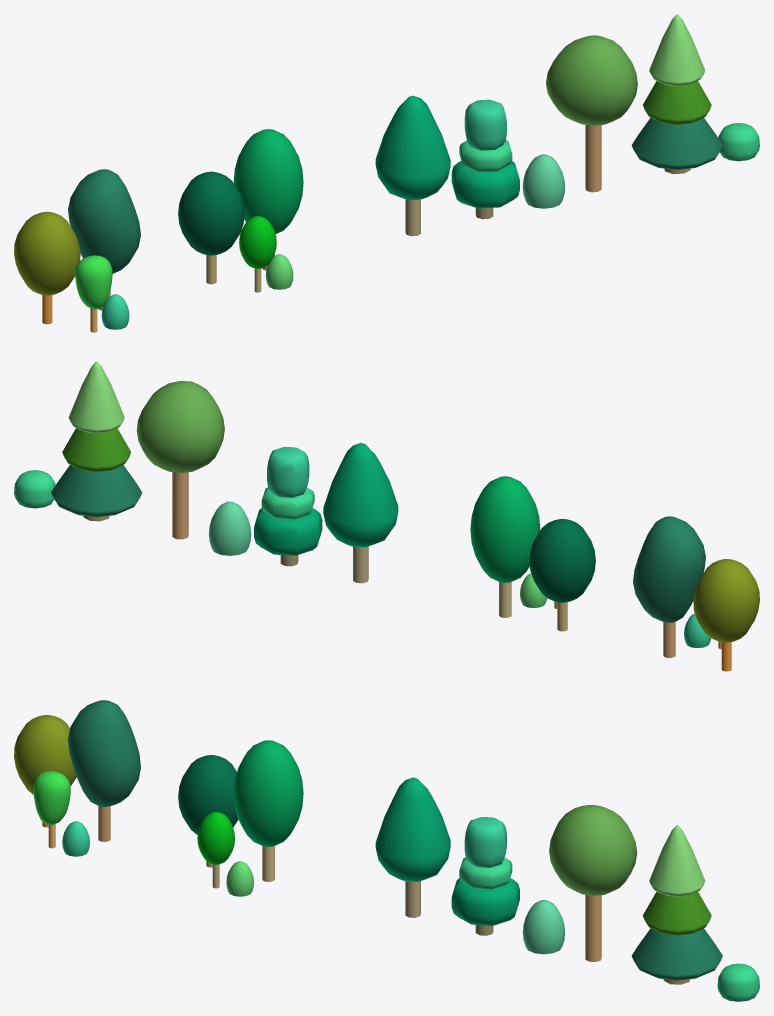
File: tree.fbx
3 views of the same model, one above another, from view 1: azimuth 30°, elevation 25°; view 2: azimuth 150°, elevation 25°; view 3: azimuth 330°, elevation 25° (orthographic).
Visible parts, largest first — view 1: pSphere2, pCube1, pSphere8, pSphere4, pSphere5, pSphere11, pCylinder7, pCylinder9, pCylinder2, pCylinder8, pCylinder4, pSphere1 (+8 smaller); view 2: pSphere2, pSphere8, pSphere4, pCube1, pSphere5, pSphere11, pCylinder7, pCylinder9, pCylinder2, pCylinder8, pCylinder4, pSphere1 (+6 smaller); view 3: pSphere2, pSphere8, pSphere4, pCube1, pCylinder7, pSphere5, pSphere11, pCylinder9, pCylinder2, pCylinder8, pCylinder4, pSphere1 (+8 smaller).
Boxes of the visible parts, x1,y1,x2,y2 form: pSphere2: (546,35,637,125); pCube1: (375,95,450,199); pSphere8: (68,169,140,273); pSphere4: (233,129,303,233); pSphere5: (178,171,244,255); pSphere11: (14,211,80,295); pCylinder7: (631,117,722,169); pCylinder9: (649,14,705,86); pCylinder2: (451,161,519,208); pCylinder8: (643,81,711,124); pCylinder4: (464,99,506,150); pSphere1: (522,154,565,208); pSphere2: (136,381,224,472); pSphere8: (633,516,705,622); pSphere4: (470,476,540,582); pCube1: (323,443,398,547); pSphere5: (529,519,595,602); pSphere11: (693,559,759,642); pCylinder7: (51,465,142,517); pCylinder9: (68,361,124,433); pCylinder2: (254,508,322,555); pCylinder8: (62,428,130,472); pCylinder4: (267,447,309,497); pSphere1: (208,501,251,555); pSphere2: (549,805,637,895); pSphere8: (68,700,140,806); pSphere4: (233,740,303,846); pCube1: (375,777,450,881); pCylinder7: (631,928,722,980); pSphere5: (178,755,238,834); pSphere11: (14,715,76,794); pCylinder9: (649,825,705,896); pCylinder2: (451,878,519,925); pCylinder8: (643,891,711,935); pCylinder4: (464,817,506,867); pSphere1: (522,900,565,954).
Size of the model in its own units: 1314 by 261 by 164.
